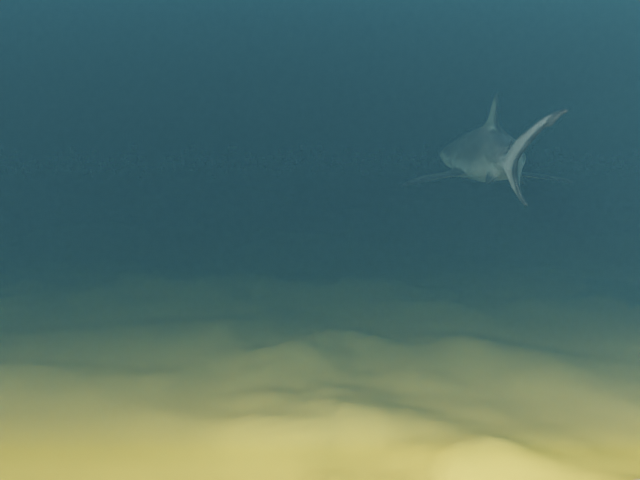Carribean Shark.001: (401, 92, 574, 205)
